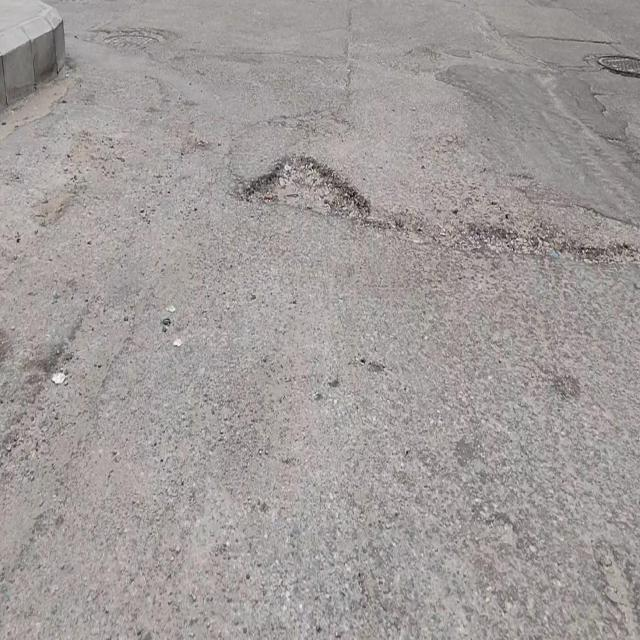Potholes: (242, 151, 373, 228)
